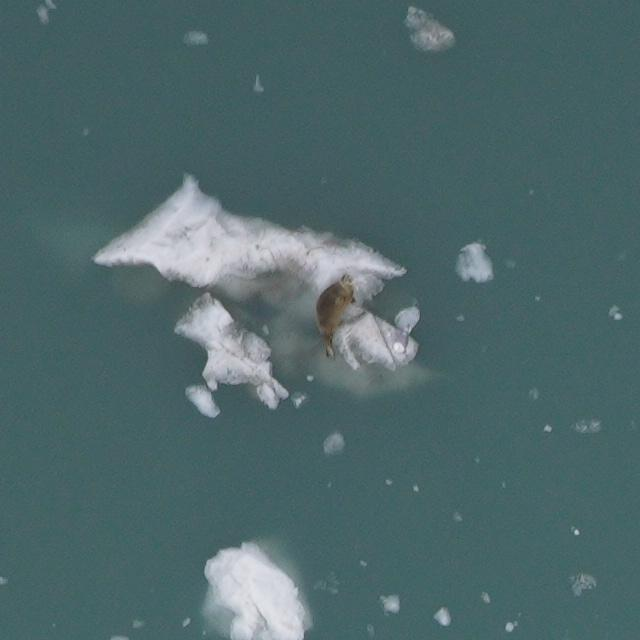seal: (313, 270, 359, 363)
